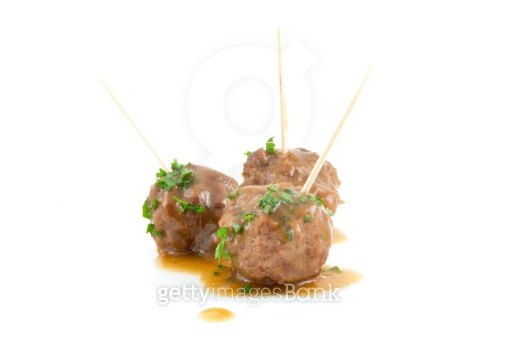meatballs: (148, 152, 346, 282)
